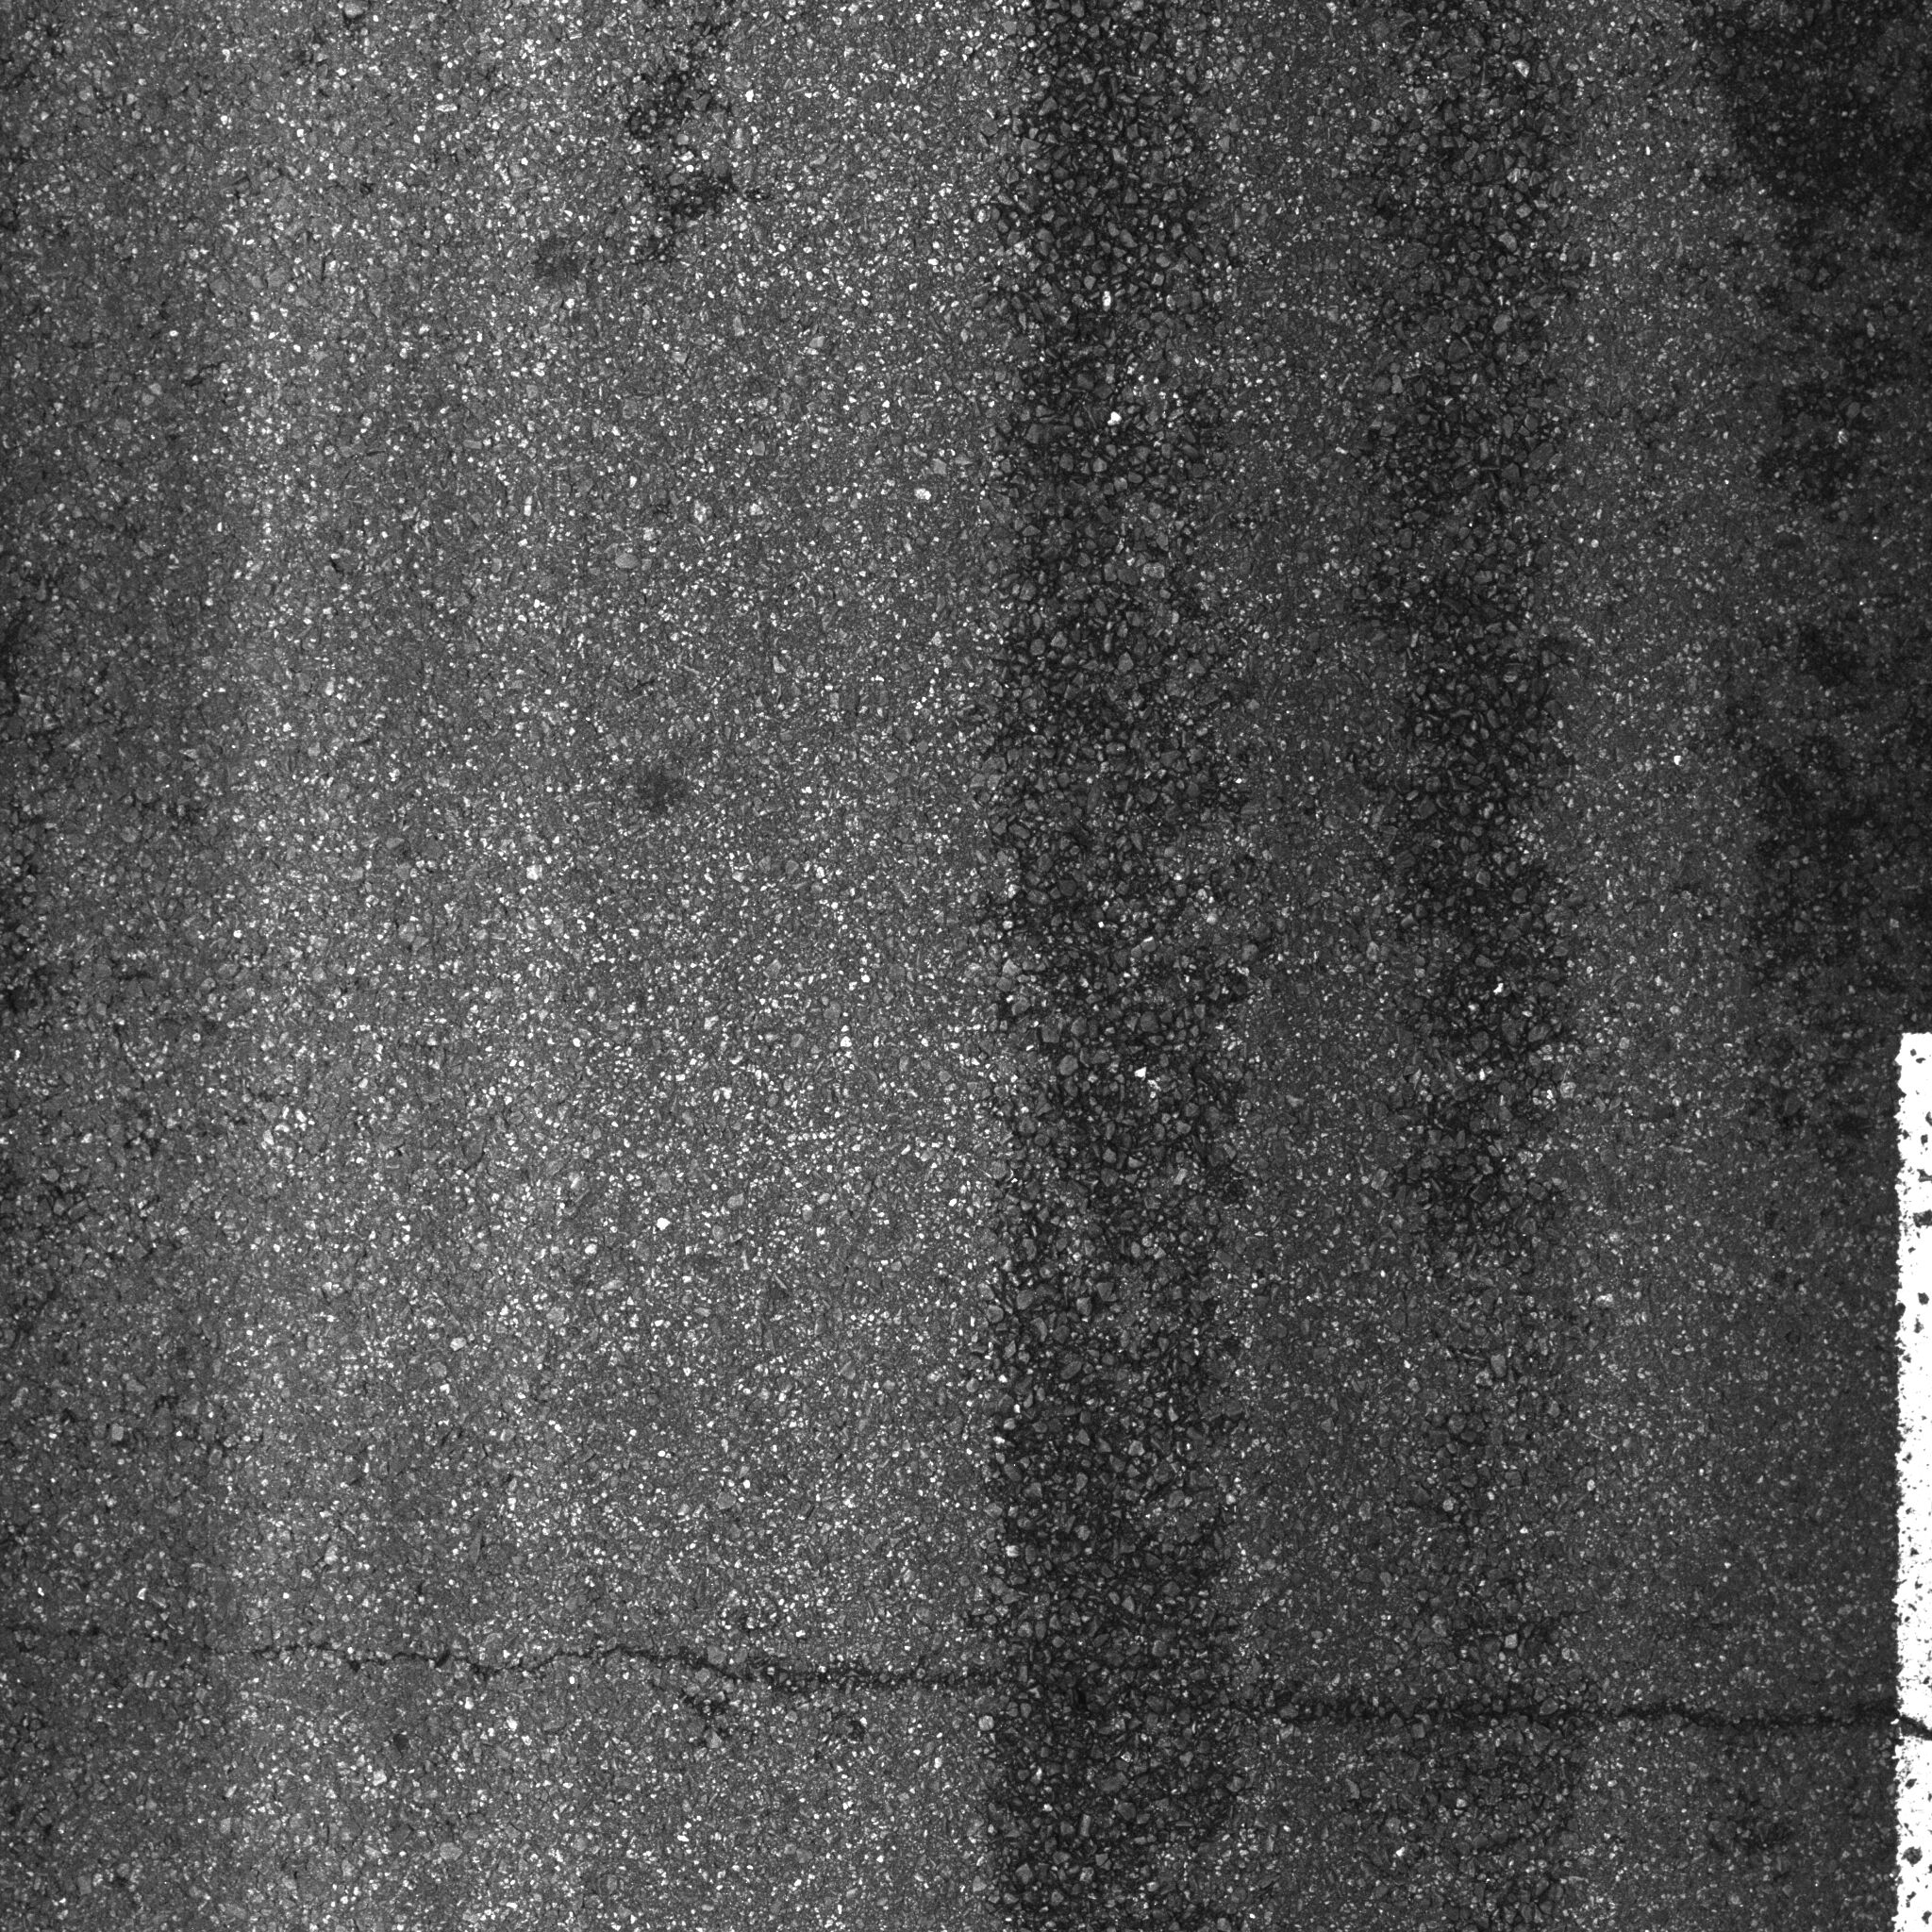transeverse: (11, 1583, 1898, 1769)
